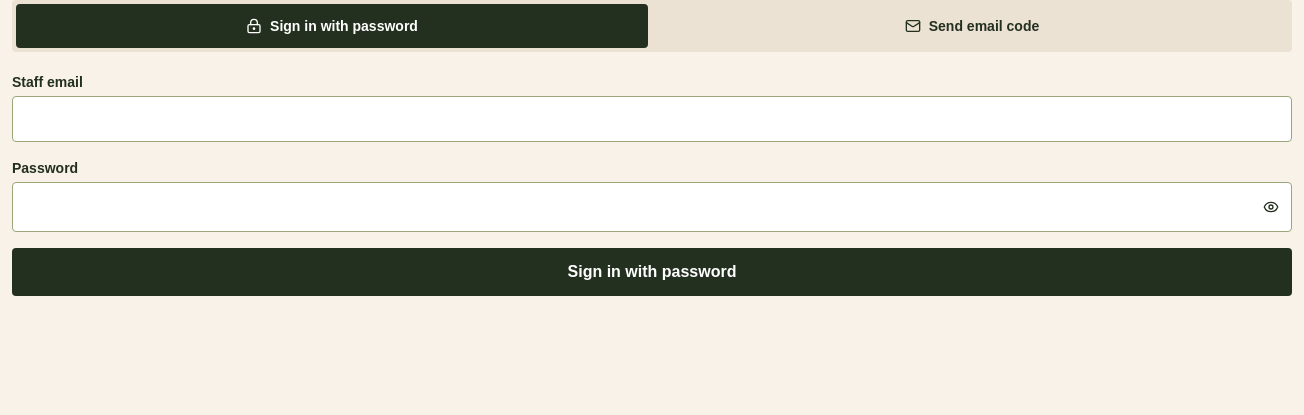
Test: StaffLoginOptions password flow › signs out and rejects customer accounts
The image size is (1304, 415).
Type "staff@example.com" into the field labelled "Staff email". click: (652, 119)
box: [12, 96, 1292, 142]
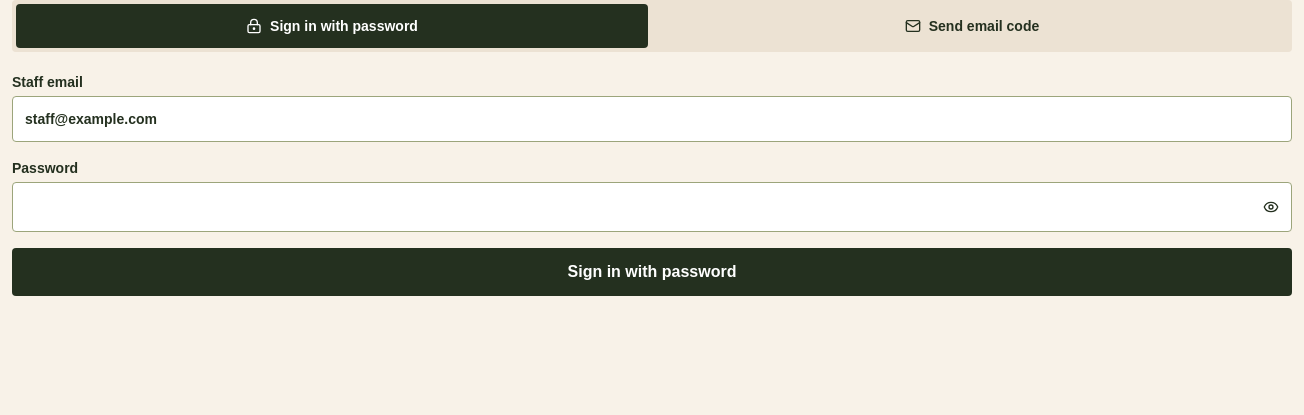
Type "correct horse battery staple" into the password field labelled "Password". click: (632, 207)
box: [13, 185, 1251, 229]
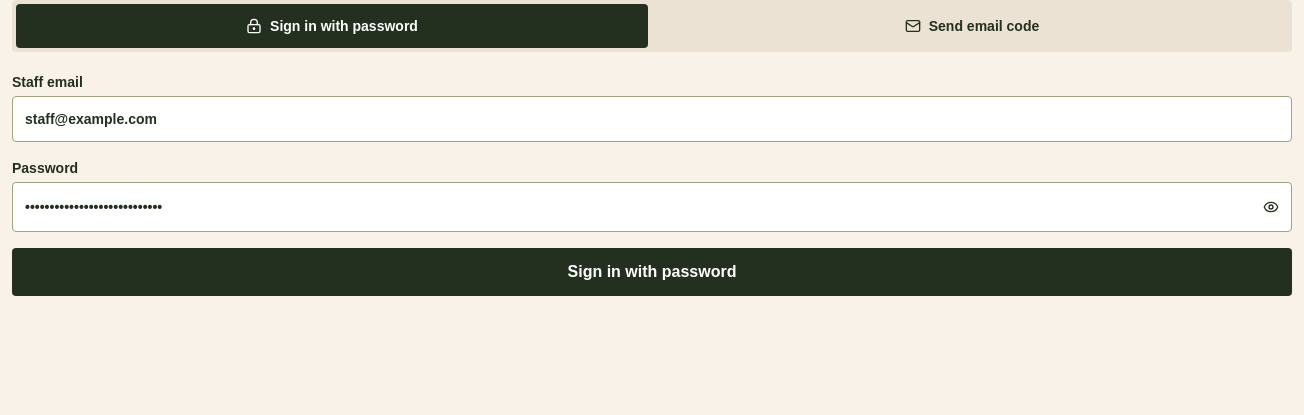
Submit the form labelled "Staff email Password Sign in with password"
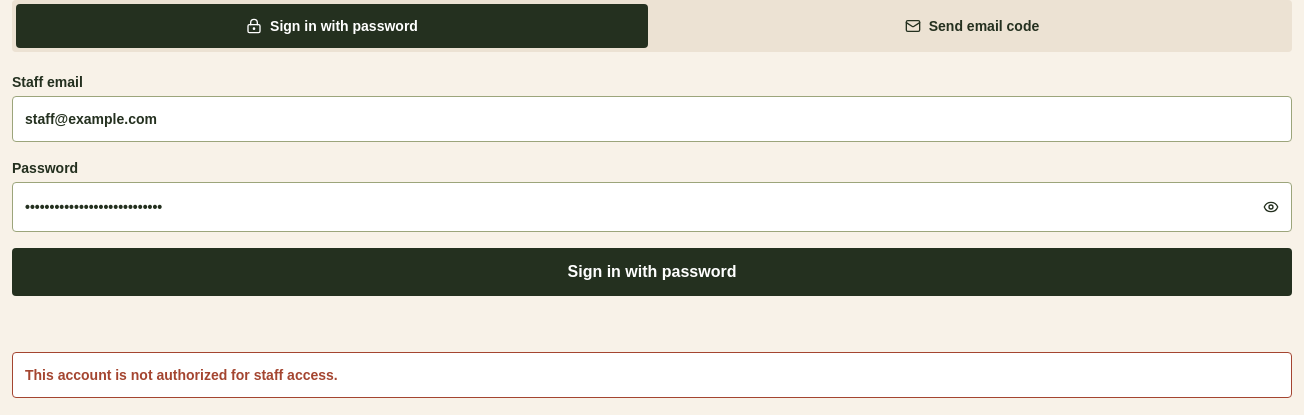
Now the message reads "This account is not authorized for staff access.", box [25, 367, 338, 383]
